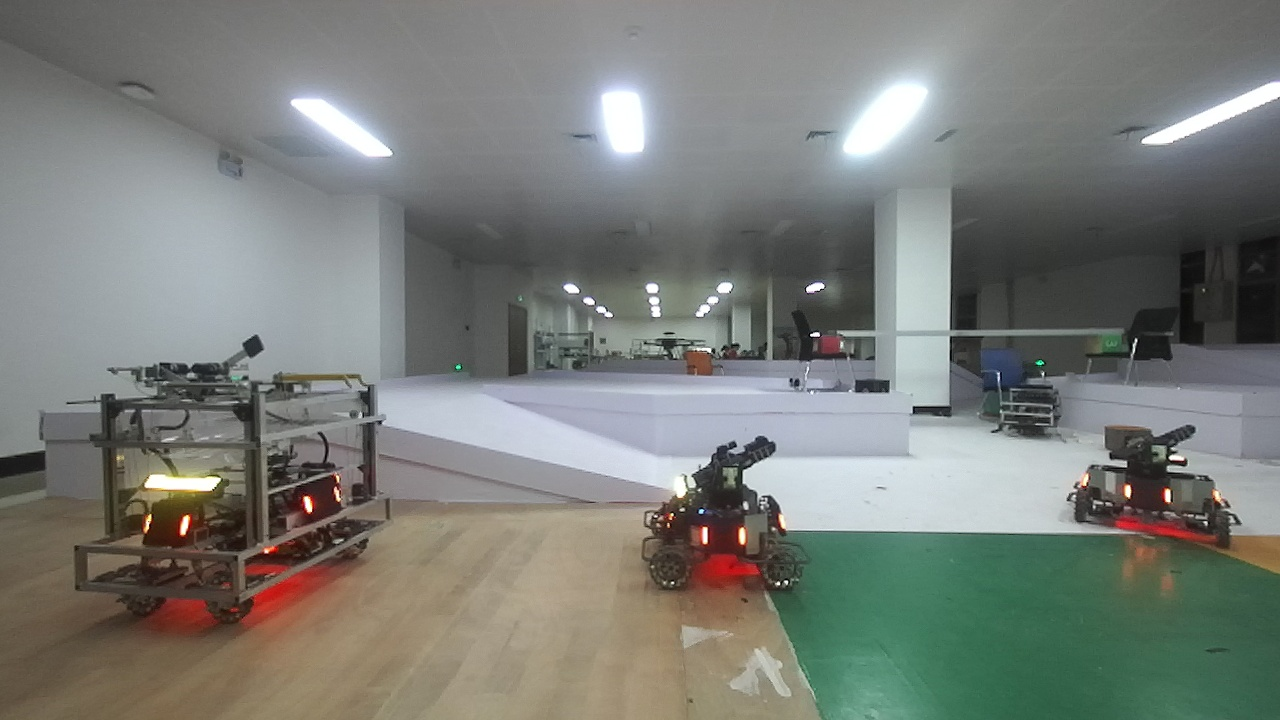car: (75, 339, 393, 638), (632, 431, 821, 607), (1063, 418, 1255, 538)
